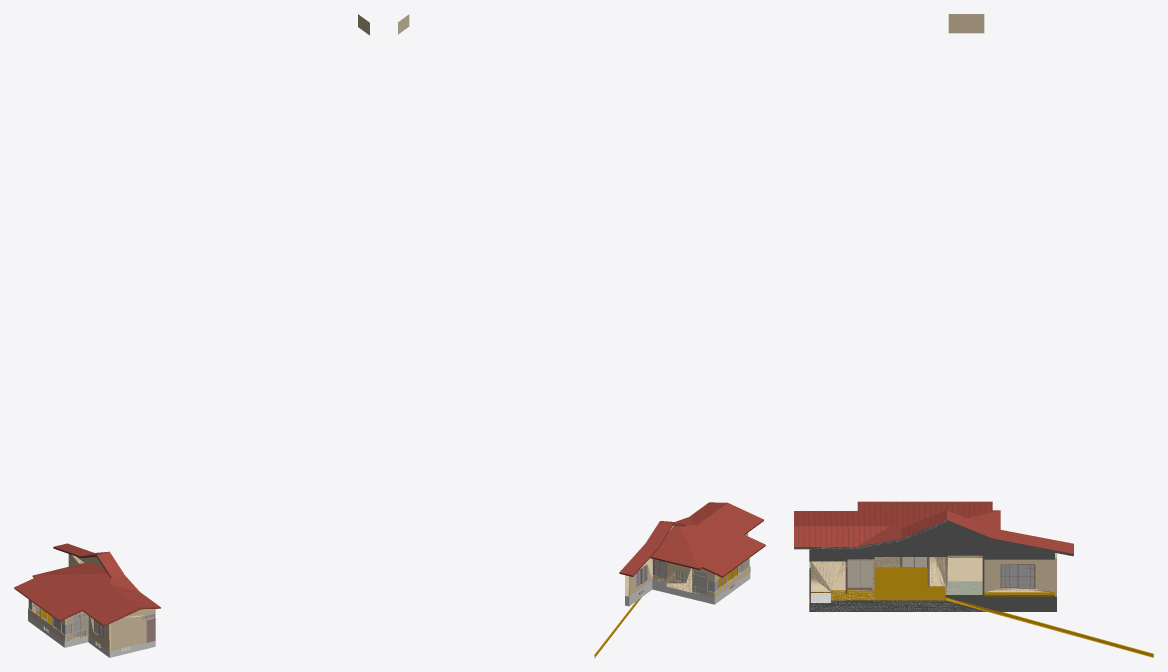
Rendered from cooltube.glb.
3 renders of one model, left to right at view 1: azimuth 30°, elevation 25°; view 2: azimuth 150°, elevation 25°; view 3: azimuth 270°, elevation 25°, orthographic. The views are drawn at different scales.
Parts seen in each view (by area): view 1: group_0.133, group_0.001, group_0.636, group_0.069; view 2: group_0.133, group_0.001, group_0.069; view 3: group_0.133, group_0.160, group_0.001, group_0.137, group_0.632, group_0.138, group_0.066, group_0.635.
Part boxes in pixels (box(x1,y1,x2,y2)): group_0.133: box(14, 543, 160, 626); group_0.001: box(28, 554, 155, 651); group_0.636: box(110, 616, 146, 650); group_0.069: box(28, 614, 155, 657); group_0.133: box(619, 502, 765, 577); group_0.001: box(625, 525, 750, 598); group_0.069: box(625, 573, 750, 606); group_0.133: box(794, 501, 1073, 553); group_0.160: box(794, 520, 1073, 611); group_0.001: box(809, 549, 1056, 592); group_0.137: box(809, 570, 986, 611); group_0.632: box(874, 575, 945, 600); group_0.138: box(945, 597, 1153, 657); group_0.066: box(948, 14, 984, 33); group_0.635: box(874, 567, 927, 578).
Bounding box in the file's own units: 45.56 × 71.12 × 27.79.
Materials: 17 (1 with a texture image).
